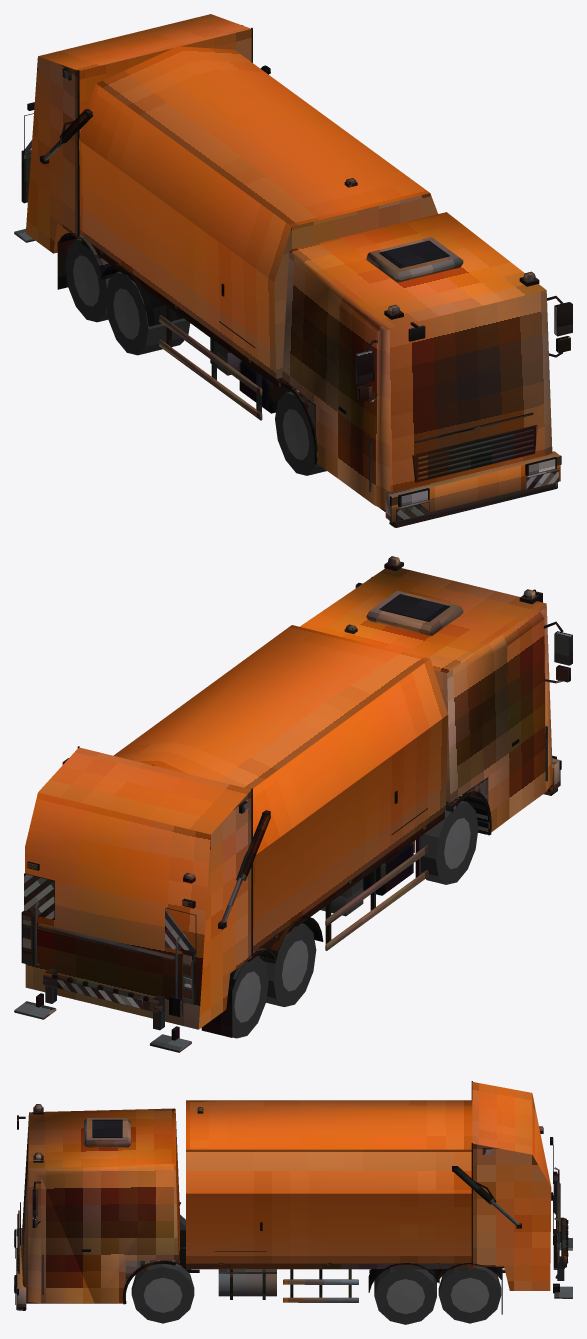
Rendered from muell_f.glb.
The picture shows the model from 3 angles, top to bottom: view 1: azimuth 30°, elevation 25°; view 2: azimuth 150°, elevation 25°; view 3: azimuth 270°, elevation 25°; orthographic projection. The views are drawn at different scales.
Parts seen in each view (by area): view 1: koerper, rad_hl; view 2: koerper, rad_hl; view 3: koerper, rad_hl.
Boxes of the visible parts, x1=… form: koerper: x1=14, y1=14, x2=572, y2=527; rad_hl: x1=65, y1=238, x2=326, y2=475; koerper: x1=14, y1=556, x2=572, y2=1052; rad_hl: x1=232, y1=800, x2=478, y2=1038; koerper: x1=14, y1=1081, x2=572, y2=1314; rad_hl: x1=131, y1=1214, x2=501, y2=1324.
Size of the model in its own units: 3.09 by 3.52 by 9.56.
2 materials, 1 textured.
